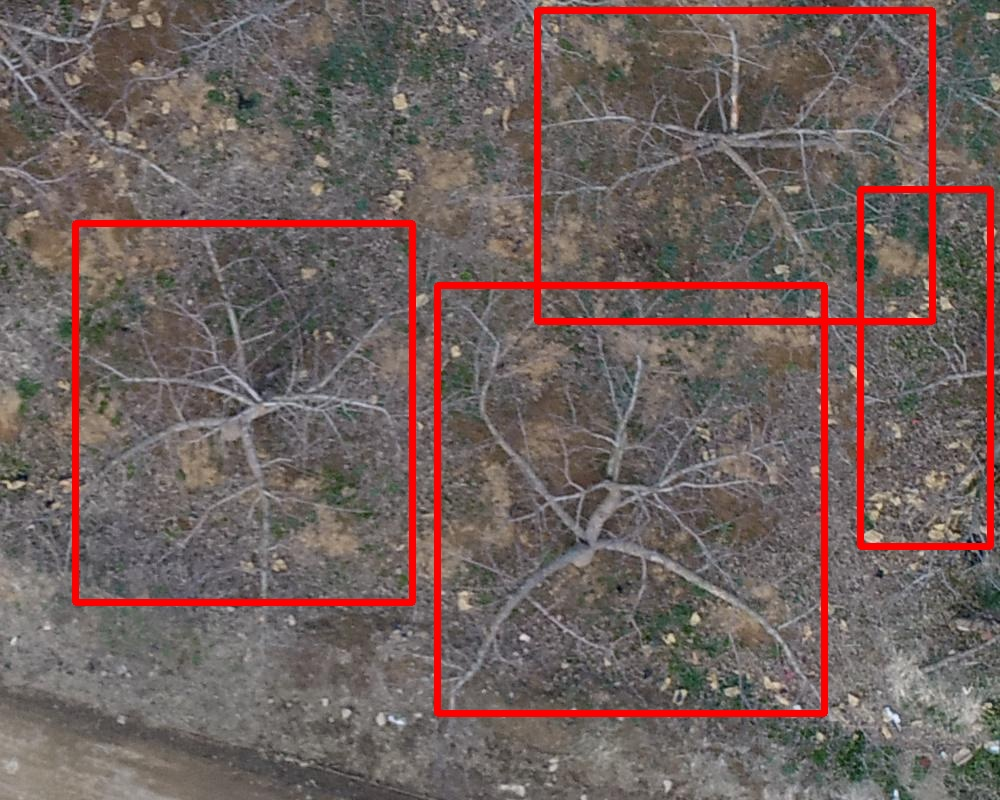apple: (437, 285, 824, 713), (75, 223, 412, 602), (537, 10, 932, 321), (860, 189, 990, 546)
